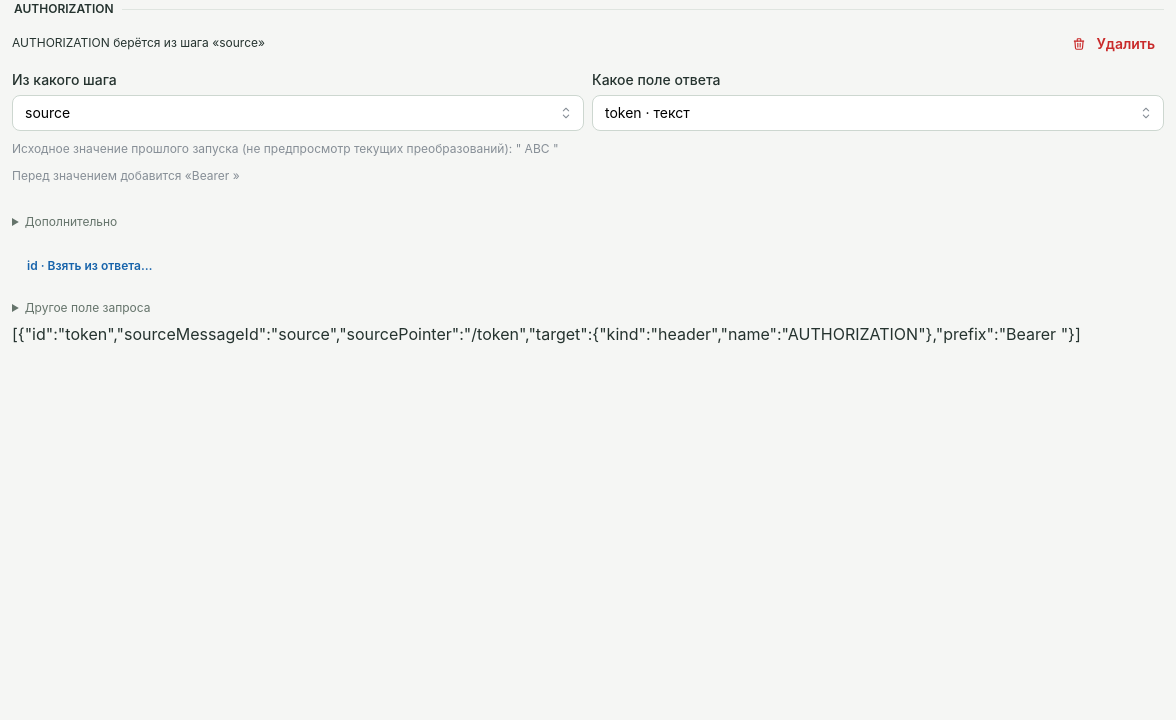
Test case: ScenarioDataBindingsEditor › adds, reorders and removes transforms while preserving the binding
Click the heading "Дополнительно" at (71,221), box [25,214,117,229]
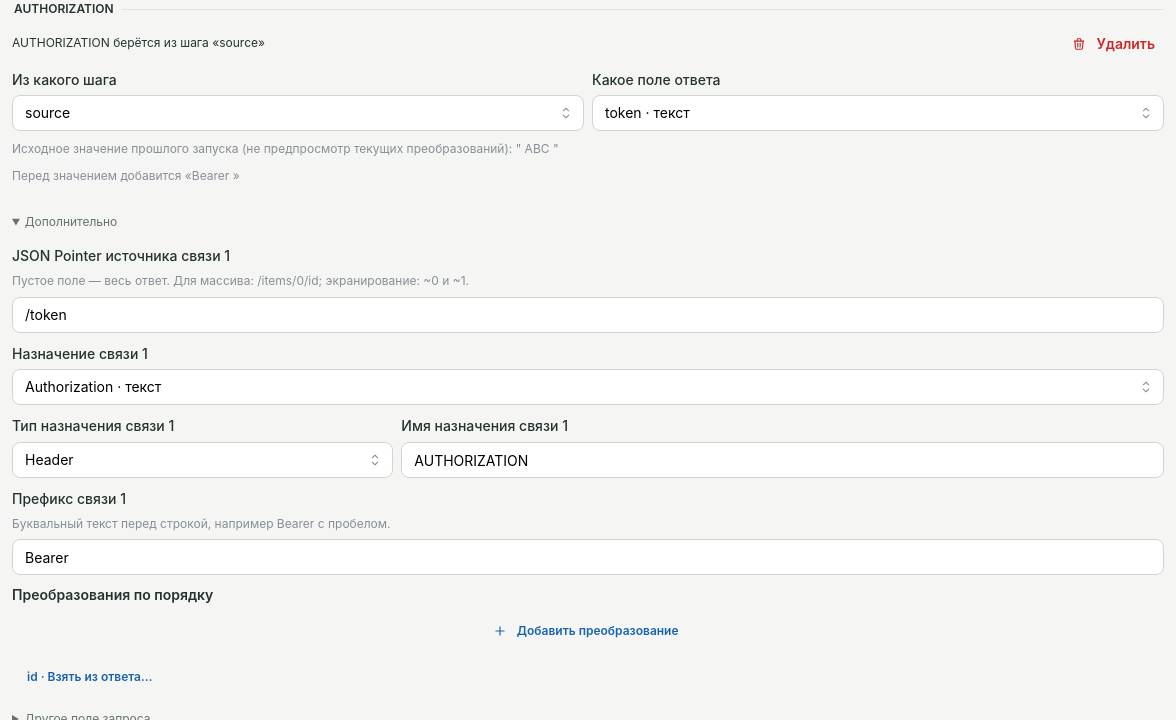
Click the button with aria-label "Добавить преобразование связи 1" at (588,631), box [12,616,1164,646]
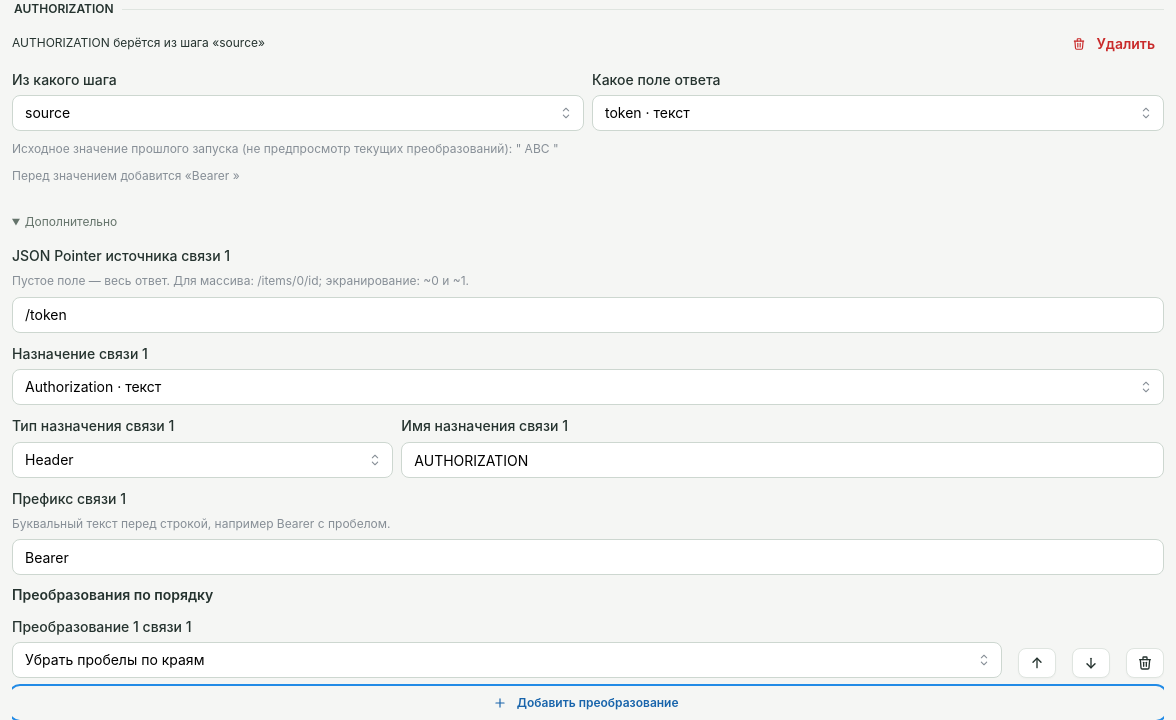
Select "Нижний регистр" in the dropdown labelled "Преобразование 1 связи 1" at (507,660), box [12,642,1002,678]
Click the button with aria-label "Добавить преобразование связи 1" at (588,703), box [12,688,1164,718]
(page scrolled)
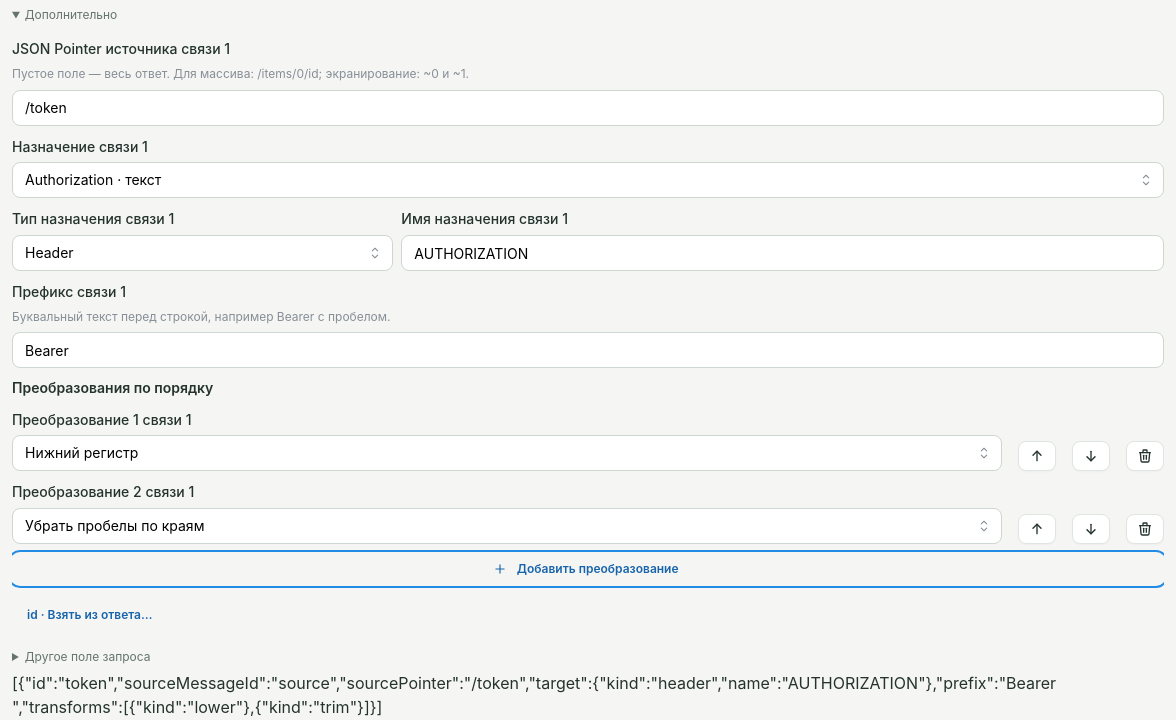
Select "Убрать пробелы по краям" in the dropdown labelled "Преобразование 2 связи 1" at (507,526), box [12,508,1002,544]
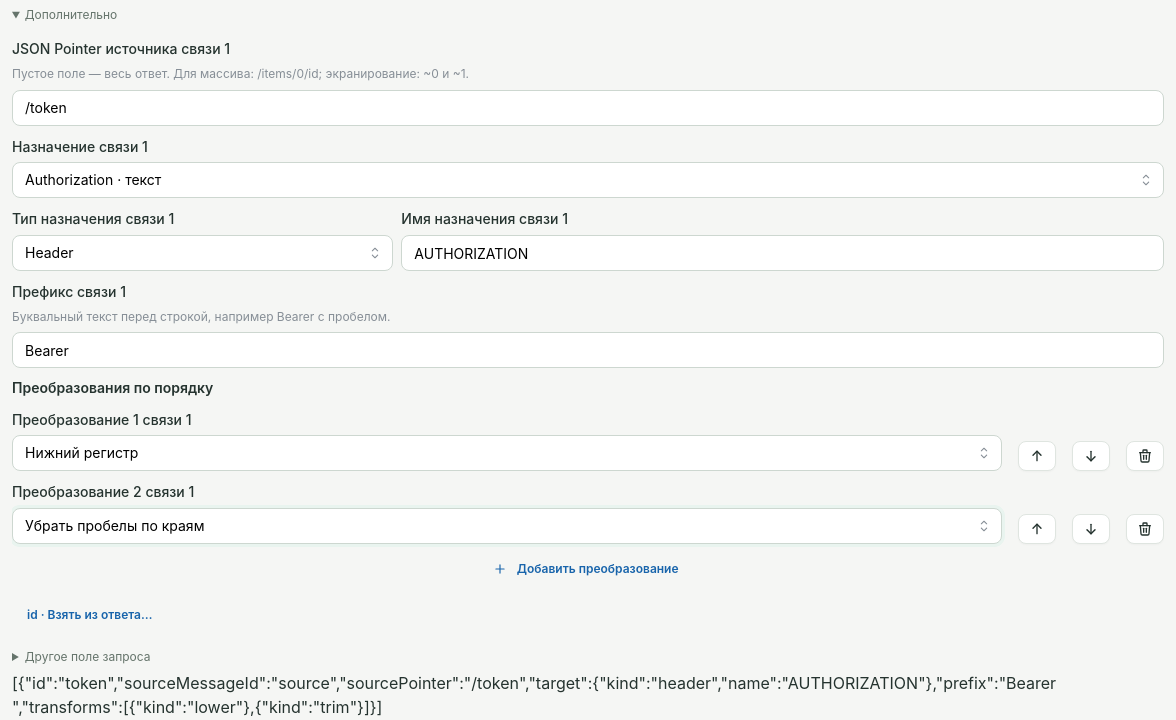
Click the button named "Поднять преобразование 2 связи 1" at (1037,529), box [1018,514,1056,544]
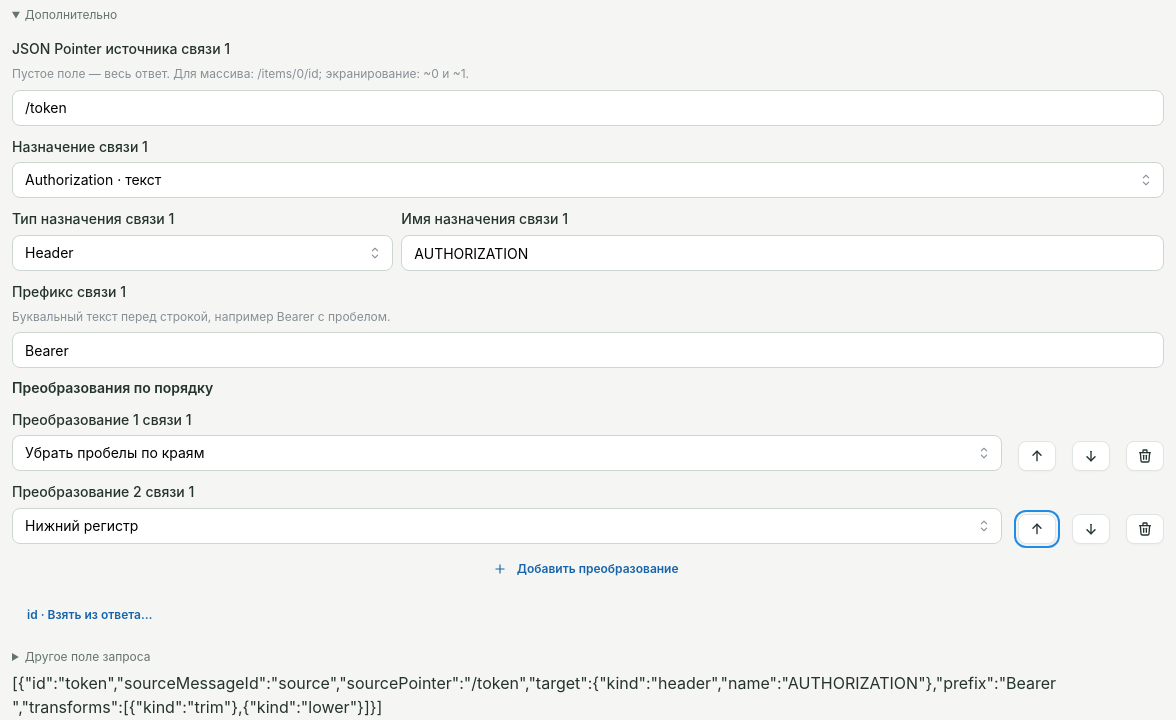
expect the text named "Сохранённые связи" shows "\"transforms\":[{\"kind\":\"trim\"},{\"kind\":\"lower\"}]": met, box [12,673,1056,718]
Click the button named "Удалить преобразование 2 связи 1" at (1145,529), box [1126,514,1164,544]
(page scrolled)
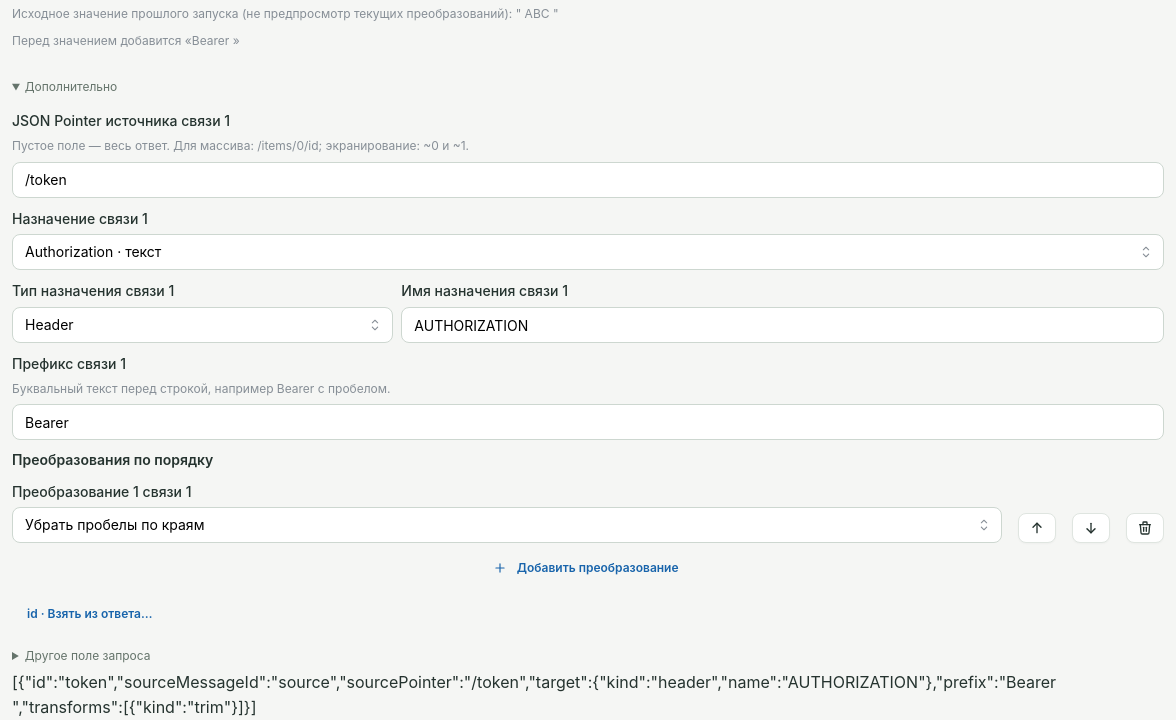
expect the text named "Сохранённые связи" shows "\"prefix\":\"Bearer \"": met, box [12,672,1056,717]
expect the text named "Сохранённые связи" shows "\"transforms\":[{\"kind\":\"trim\"}]": met, box [12,672,1056,717]
